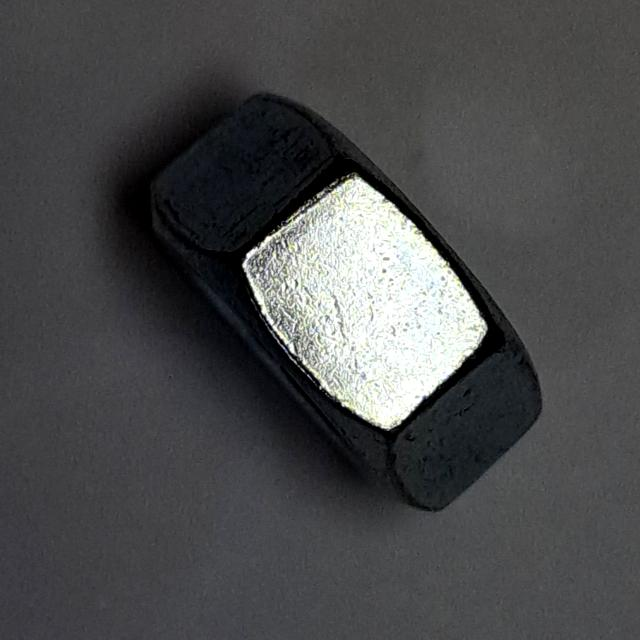Side_Excellent: (138, 74, 572, 539)
